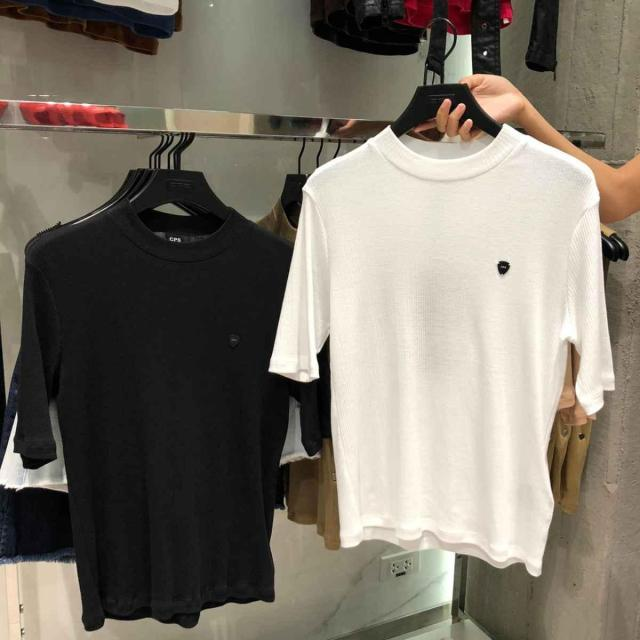Tshirt: (288, 110, 615, 540), (19, 191, 284, 614)
